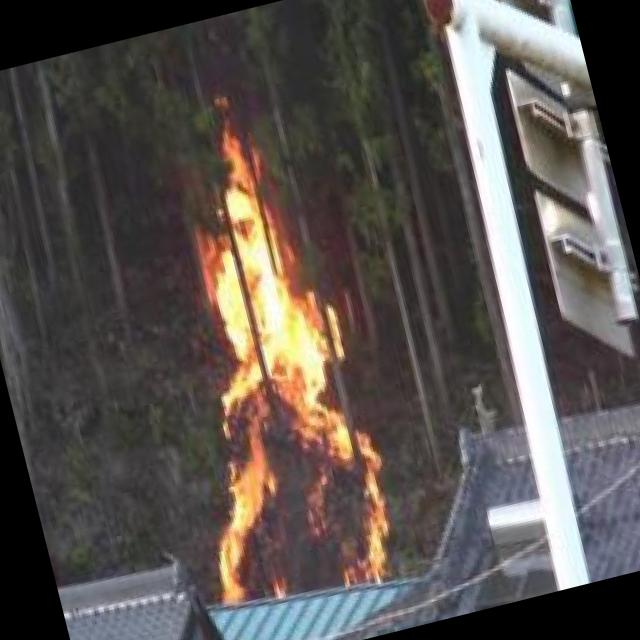Fire: (89, 66, 412, 620)
